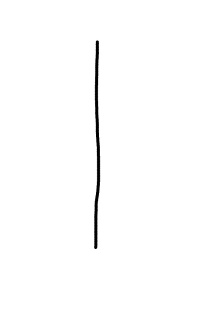Line: (91, 37, 102, 251)
